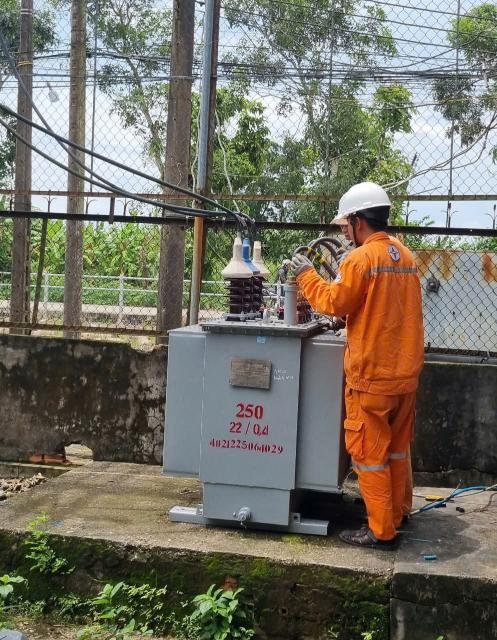gloves: (287, 243, 318, 283)
helmet: (327, 162, 406, 231)
shoes: (334, 526, 413, 554)
